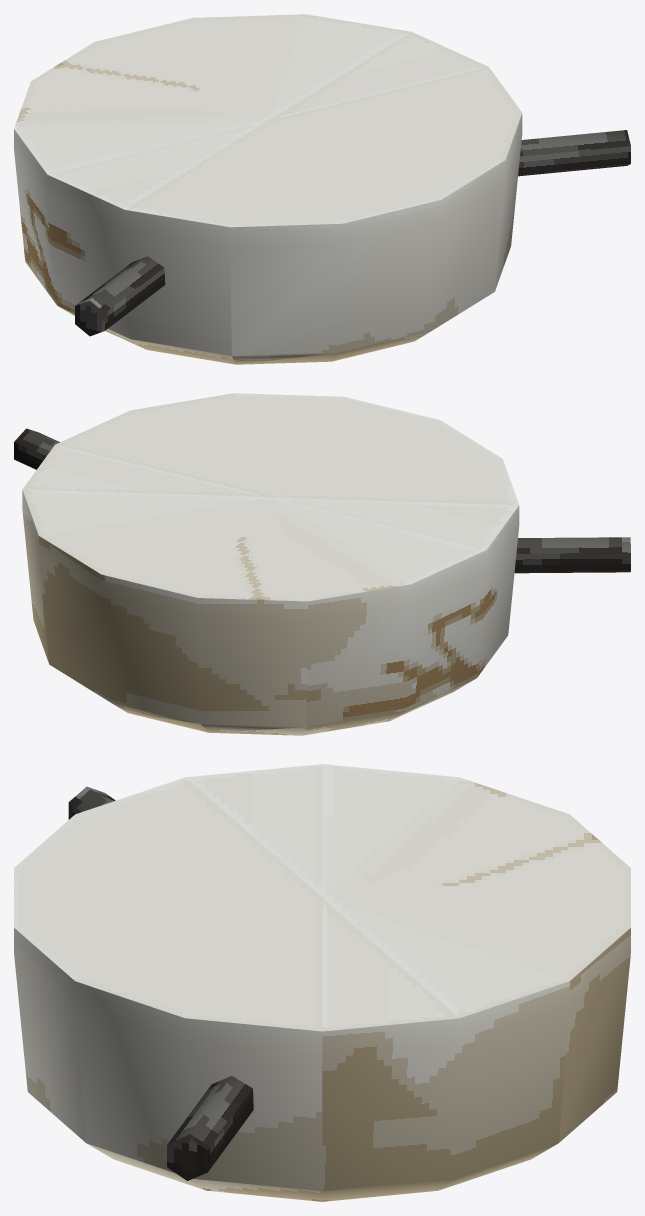
File: gk_jbox.glb
3 renders of one model, top to bottom at view 1: azimuth 30°, elevation 25°; view 2: azimuth 150°, elevation 25°; view 3: azimuth 270°, elevation 25°, orthographic. The views are drawn at different scales.
Parts seen in each view (by area): view 1: mesh; view 2: mesh; view 3: mesh.
Part boxes in pixels (x1,y1,x2,y2): mesh: [14, 14, 630, 364]; mesh: [14, 393, 630, 735]; mesh: [14, 764, 630, 1201].
Bounding box in the file's own units: 0.1203 × 0.032 × 0.0877.
1 material, 1 textured.
